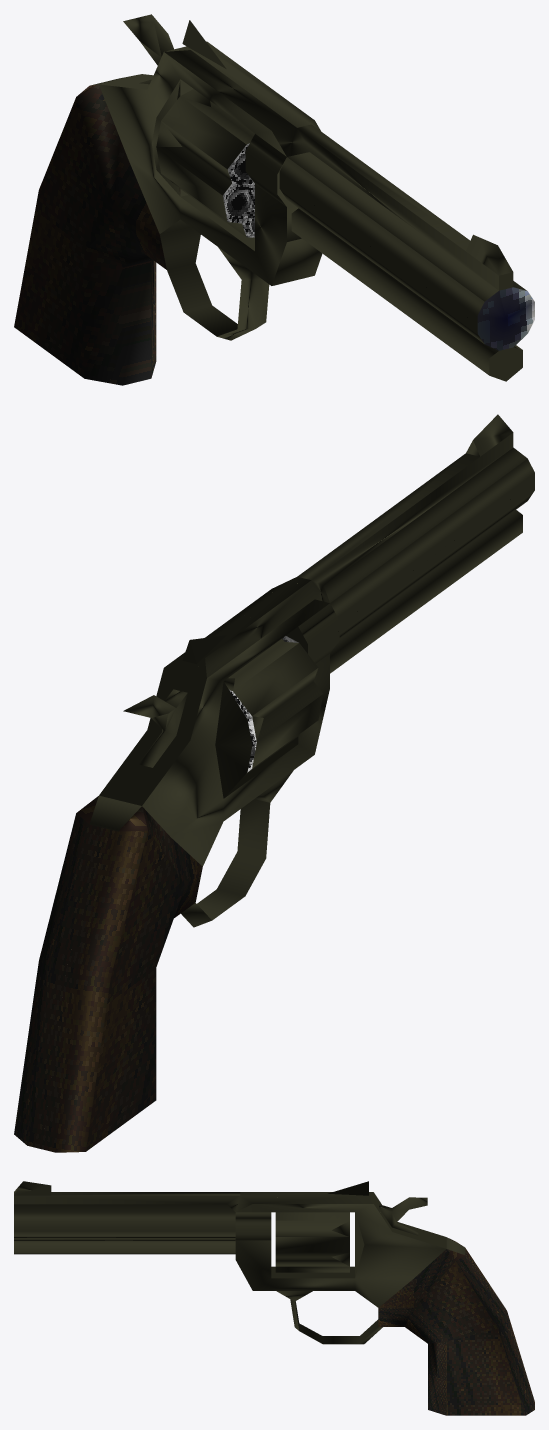
File: 07-dy357-magnum-fp.glb
3 renders of one model, top to bottom at view 1: azimuth 30°, elevation 25°; view 2: azimuth 150°, elevation 25°; view 3: azimuth 270°, elevation 25°, orthographic. The views are drawn at different scales.
Parts seen in each view (by area): view 1: gun; view 2: gun; view 3: gun.
Boxes of the visible parts, x1=… form: gun: x1=14, y1=14, x2=534, y2=385; gun: x1=14, y1=414, x2=534, y2=1152; gun: x1=14, y1=1181, x2=534, y2=1415.
Size of the model in its own units: 50.48 by 192 by 404.
Materials: 5 (5 with a texture image).
